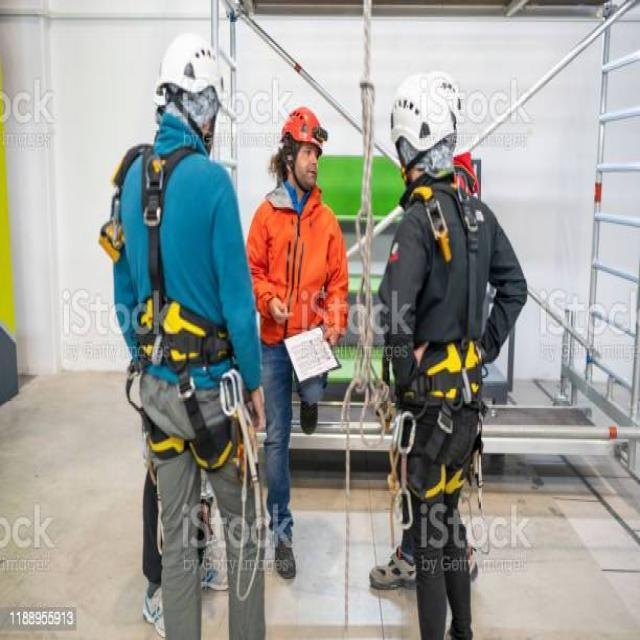Arnes_seguridad: (129, 140, 247, 473), (394, 171, 487, 508)
